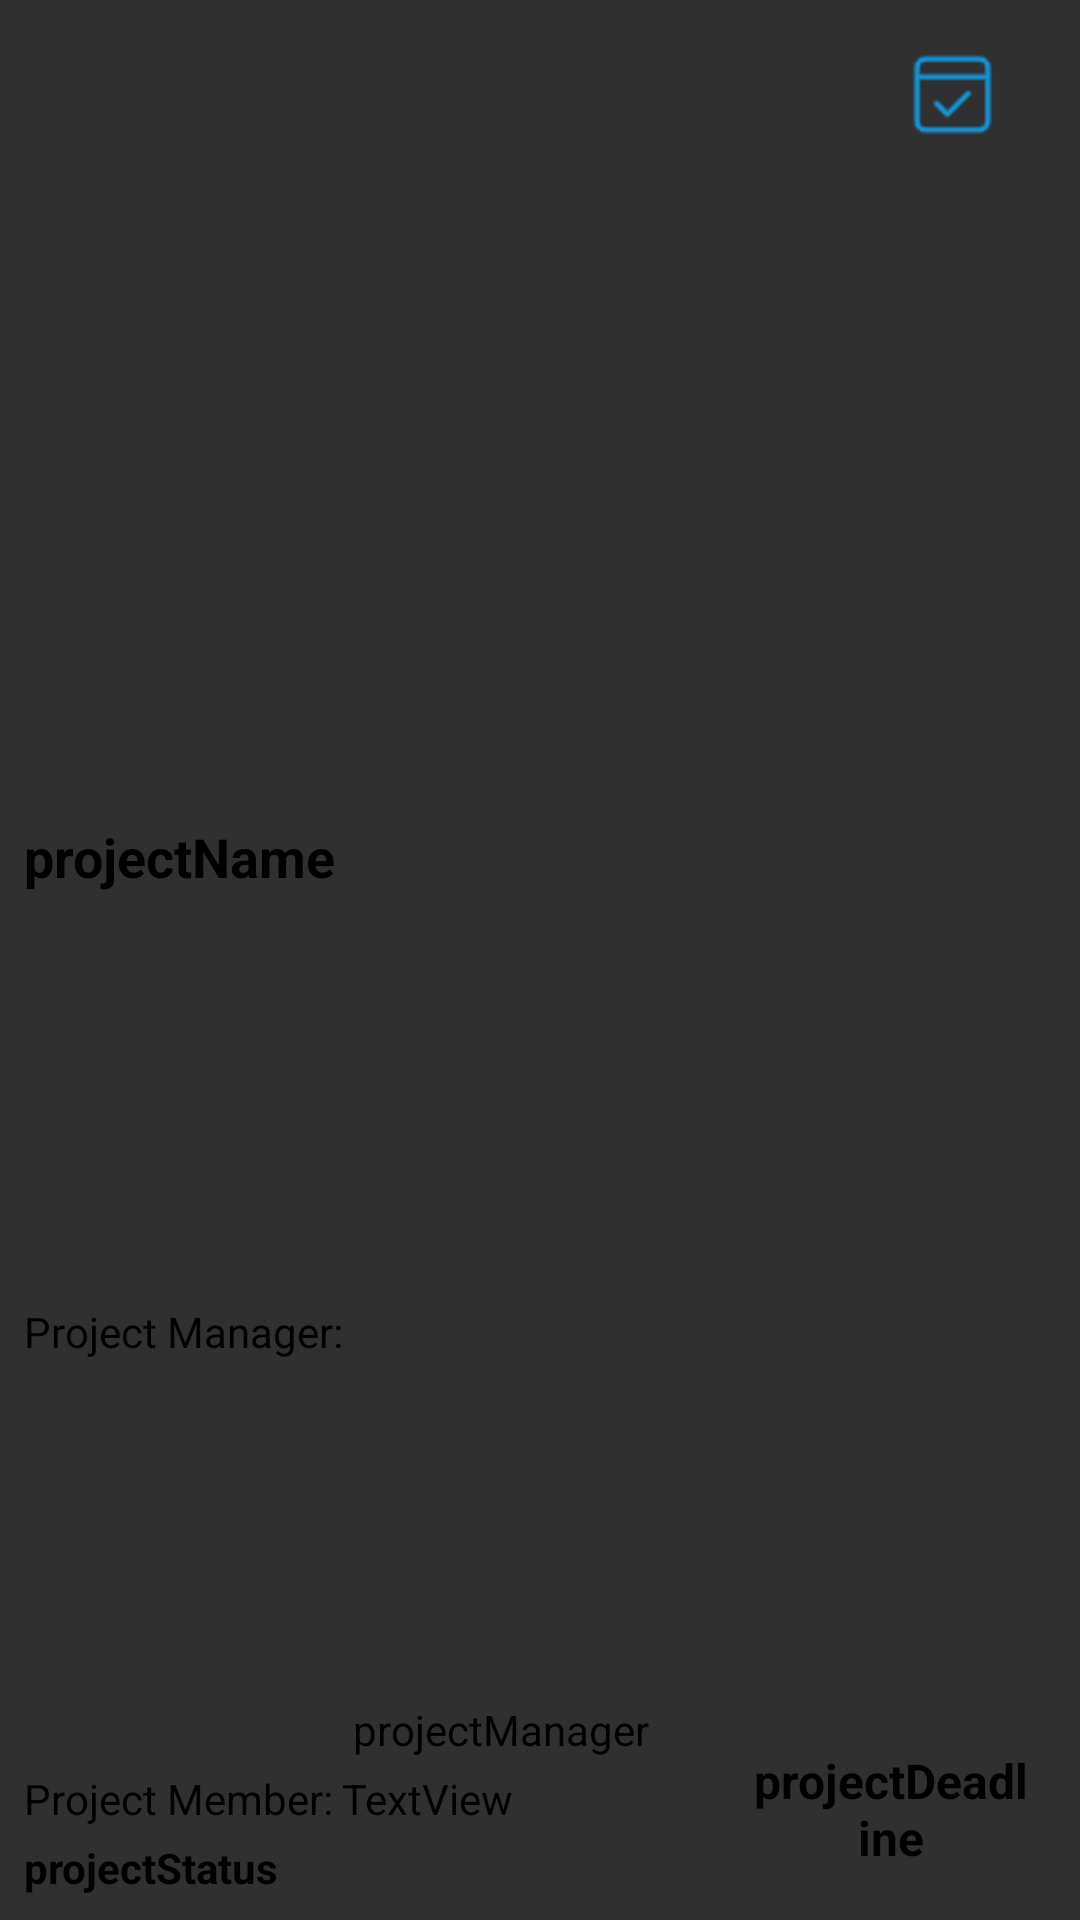

Named icons in this screenshot (1080*1920) and their bounding boxes, (x1, y1, x2, y2):
completed: (913, 55, 992, 134)
